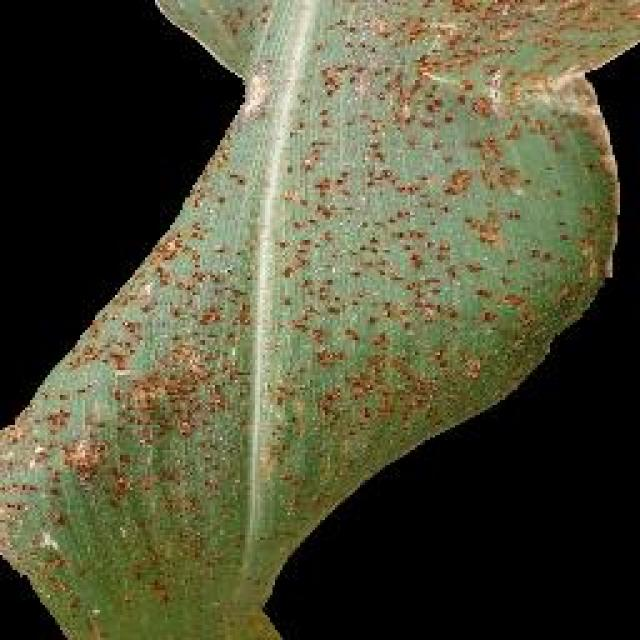Corn Common Rust: (168, 26, 530, 562)
